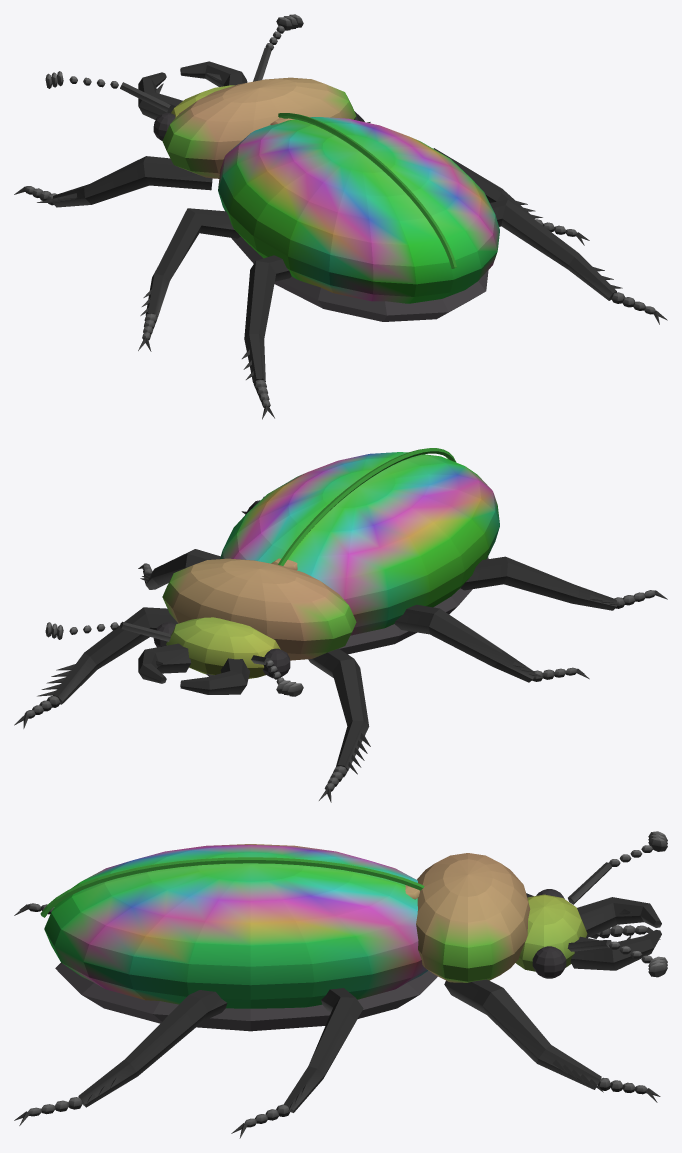
Rendered from RainbowStagBeetle.fbx.
3 views of the same model, one above another, from view 1: azimuth 30°, elevation 25°; view 2: azimuth 150°, elevation 25°; view 3: azimuth 270°, elevation 25° (orthographic). The views are drawn at different scales.
Visible parts, largest first — view 1: Critter_RainbowStagBeetle; view 2: Critter_RainbowStagBeetle; view 3: Critter_RainbowStagBeetle.
Boxes of the visible parts, bbox=[...] form: Critter_RainbowStagBeetle: bbox=[14, 14, 667, 419]; Critter_RainbowStagBeetle: bbox=[14, 448, 667, 802]; Critter_RainbowStagBeetle: bbox=[14, 831, 667, 1138].
Bounding box in the file's own units: 1.05 × 0.3267 × 1.2.
